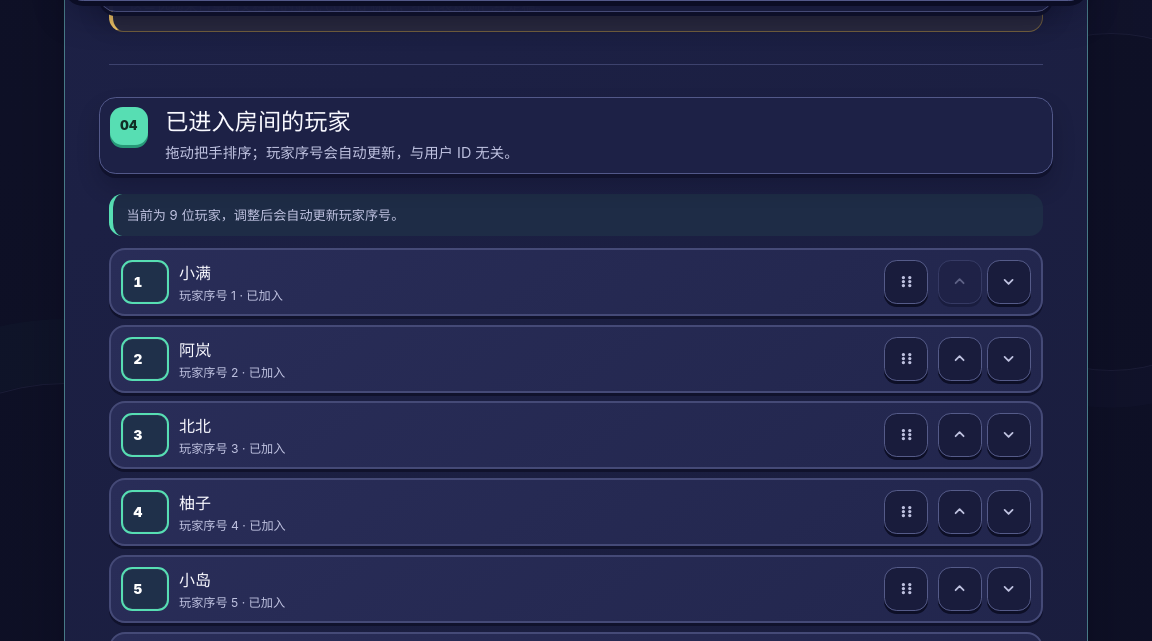
it: 上帝 Mock 流程 › 上帝可以输入玩家序号直接调整座位
(page scrolled)
Replace the text in the number field named "小满的玩家序号" next to "小满" with "3" at (145,282), box left=121, top=260, right=169, bottom=304
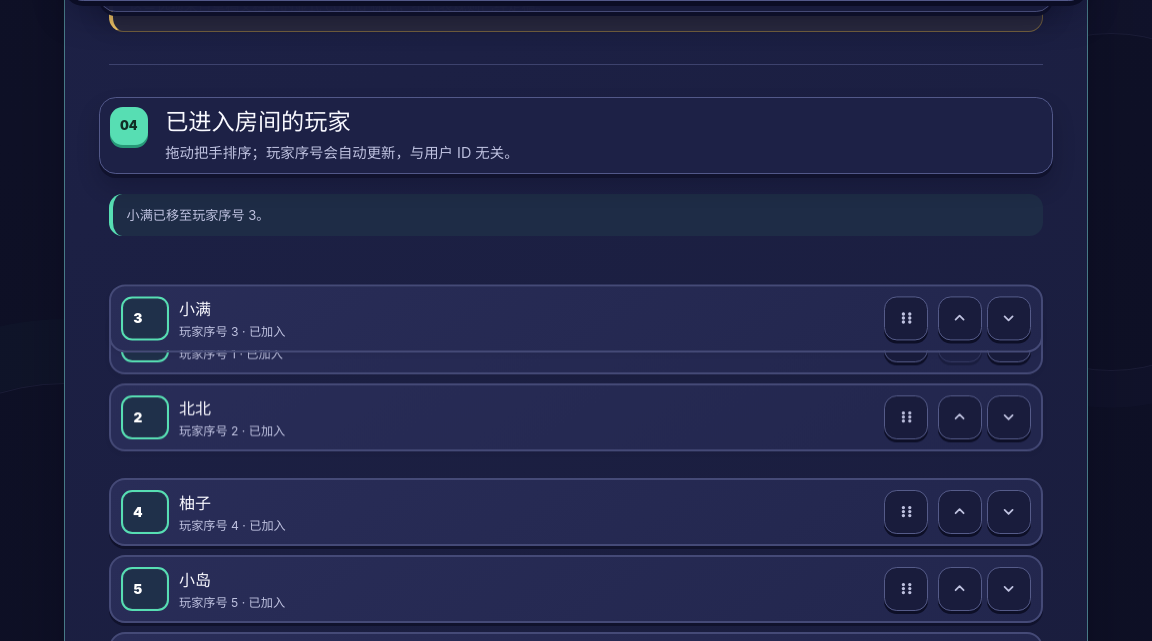
Check: the list item "阿岚 玩家序号 1 · 已加入" is shown, box left=109, top=257, right=1043, bottom=325
Check: the text "小满已移至玩家序号 3。" is shown, box left=109, top=194, right=1043, bottom=236
